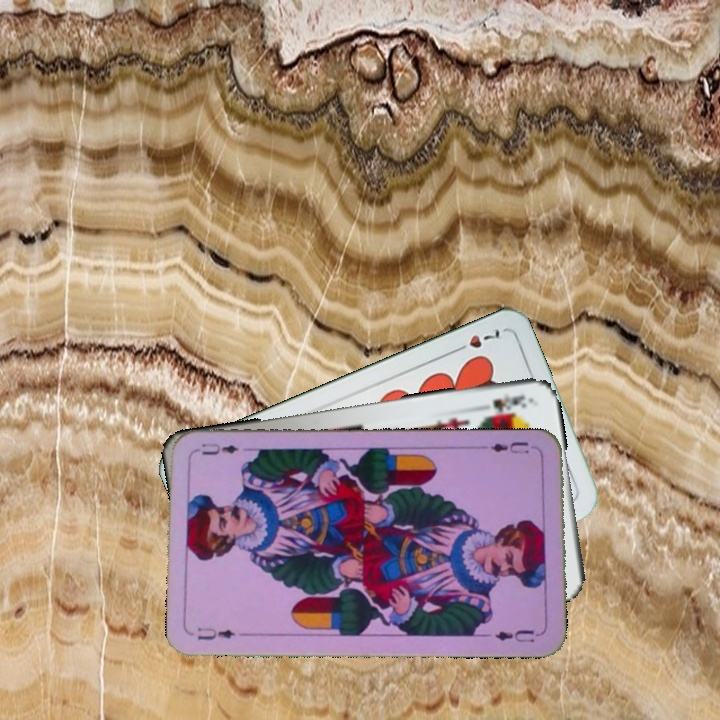EU: (486, 437, 540, 457), (193, 624, 238, 643)
H7: (449, 325, 503, 356)
SK: (489, 389, 529, 415)
